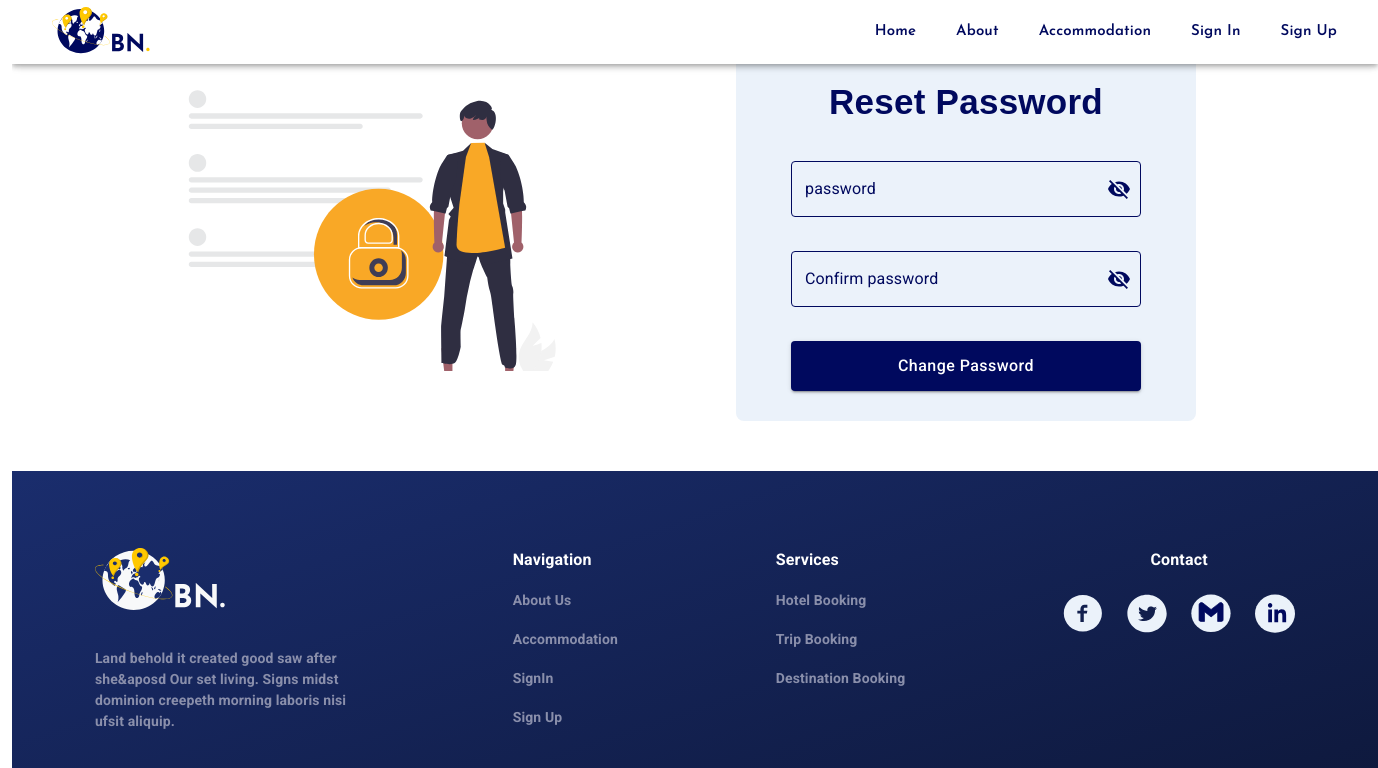
Test: RESET PASSWORD TEST › show password
In the password field labelled "password": (941, 189) [791,161,1091,217], type "Wordpass123"
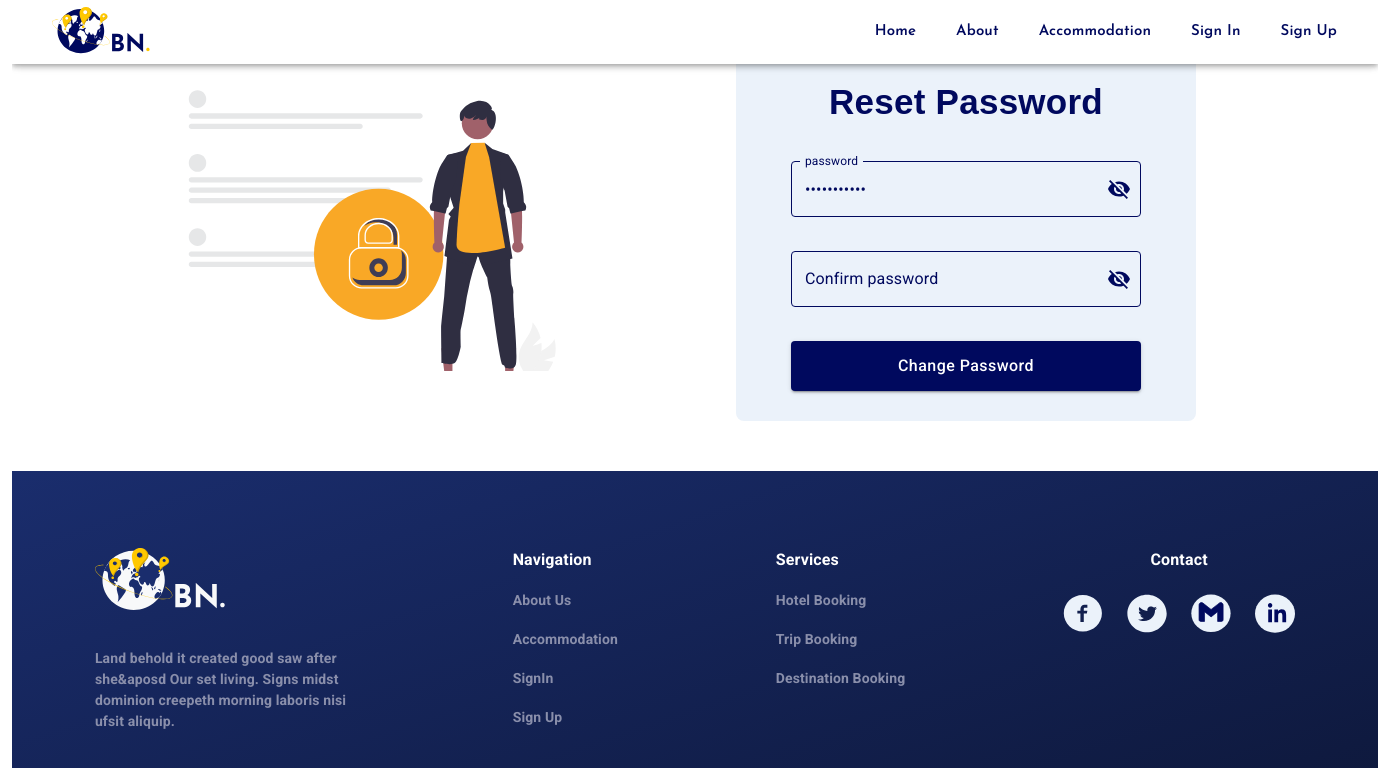
Click the button with test id "visibility-button": click(1119, 189) [1099,169,1139,209]
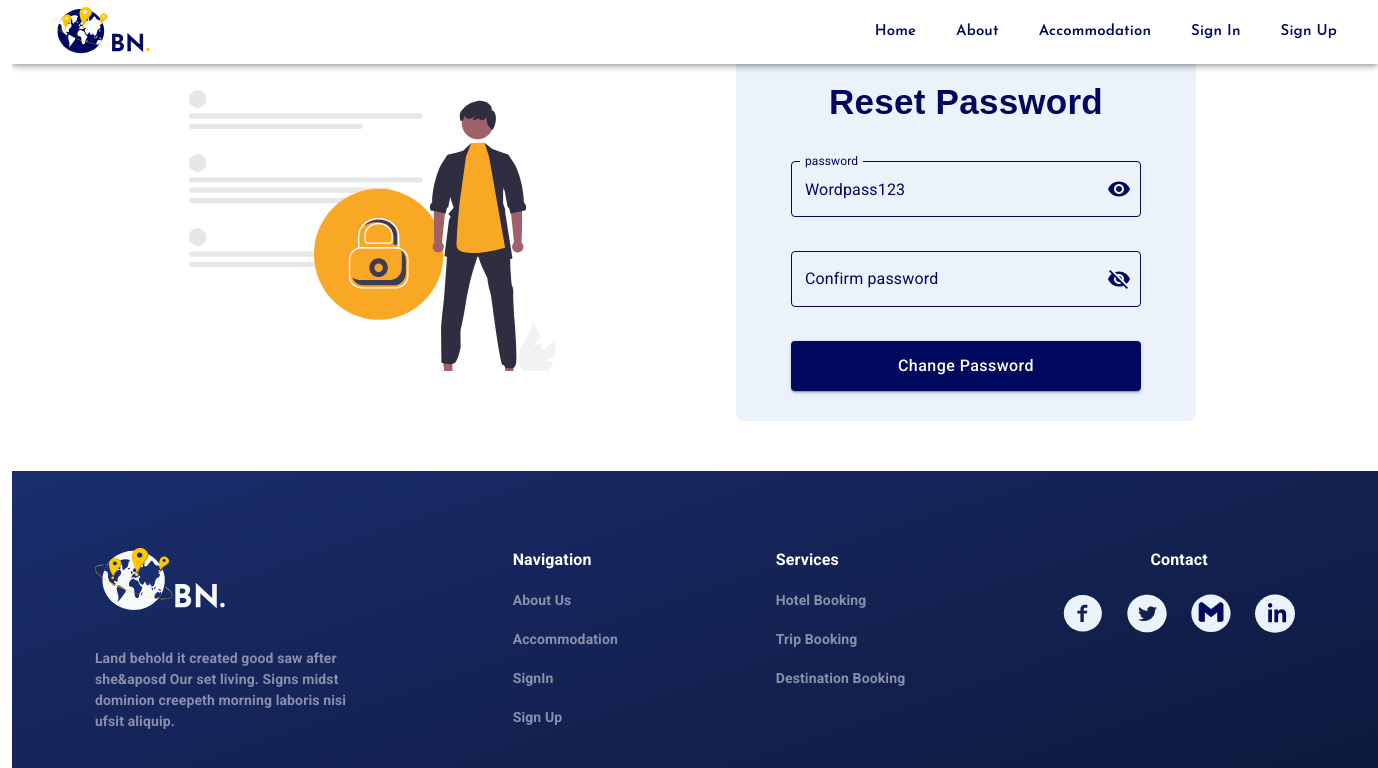
Now the field labelled "password" shows its text, box [791,161,1091,217]
